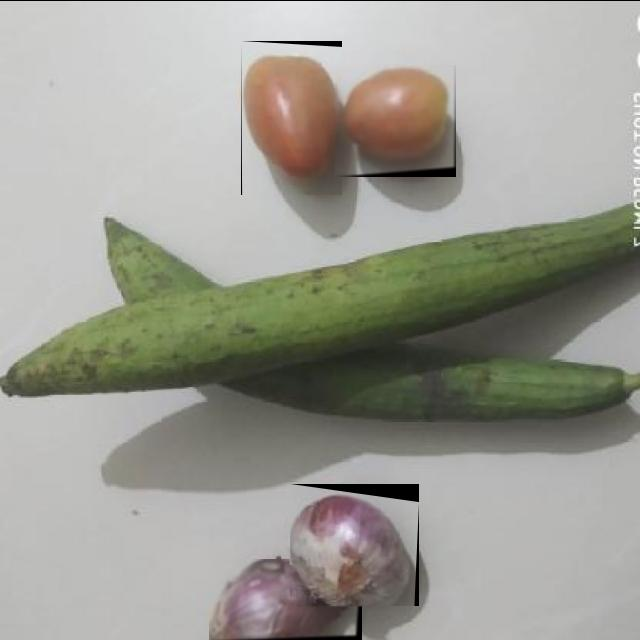onion: (290, 483, 419, 605), (209, 558, 362, 640)
tomato: (241, 40, 342, 194), (335, 64, 456, 176)
